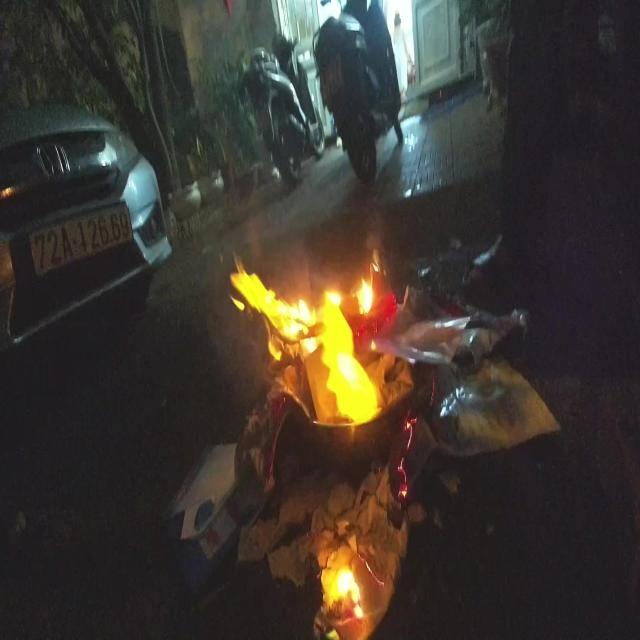Fire: (225, 249, 385, 424), (316, 563, 364, 640)
